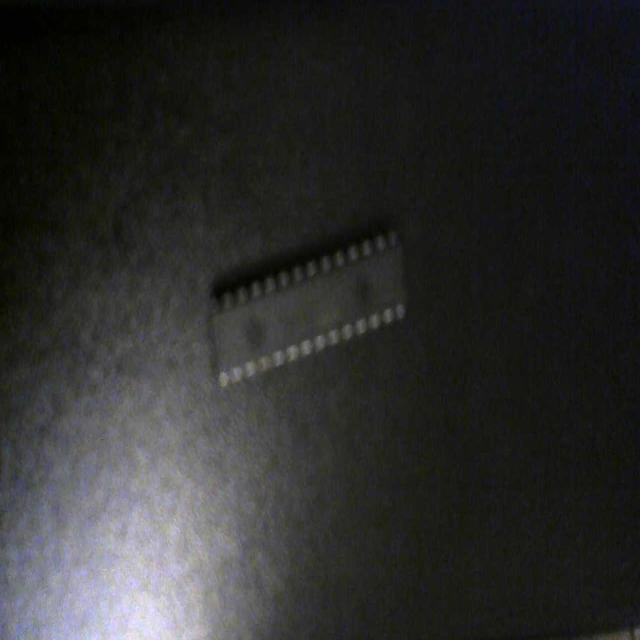atmega: (205, 220, 411, 394)
